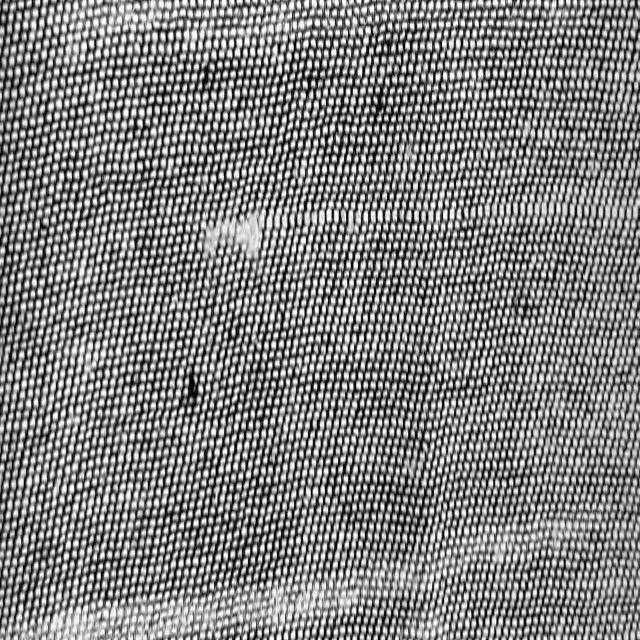Foreign_yarn: (0, 525, 640, 640), (180, 204, 640, 270)
